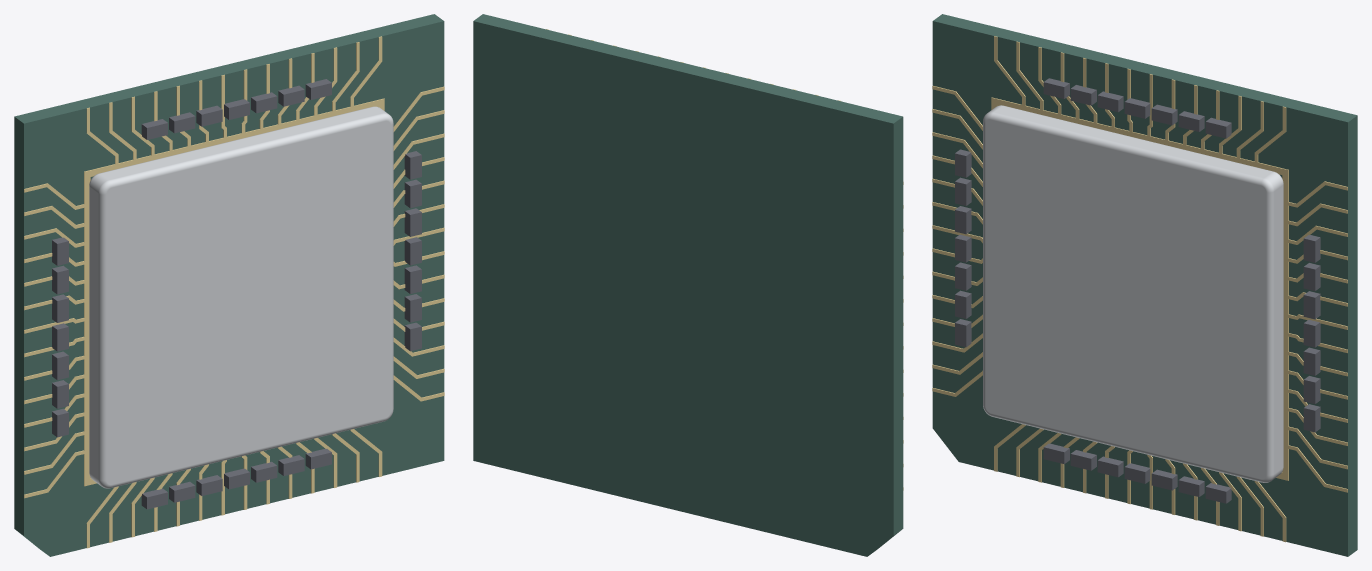
Rendered from cpu.glb.
The picture shows the model from 3 angles, left to right: view 1: azimuth 30°, elevation 25°; view 2: azimuth 150°, elevation 25°; view 3: azimuth 330°, elevation 25°; orthographic projection.
Visible parts, largest first — view 1: Lid, Substrate, Traces, Capacitors; view 2: Substrate; view 3: Lid, Substrate, Traces, Capacitors.
Part boxes in pixels (x1,y1,x2,y2): Lid: (89, 106, 393, 488); Substrate: (14, 14, 444, 556); Traces: (24, 36, 444, 548); Capacitors: (52, 79, 421, 509); Substrate: (473, 14, 903, 556); Lid: (983, 105, 1283, 482); Substrate: (932, 14, 1357, 556); Traces: (932, 36, 1347, 542); Capacitors: (955, 78, 1320, 503).
Size of the model in its own units: 0.04 by 0.04 by 0.004.
